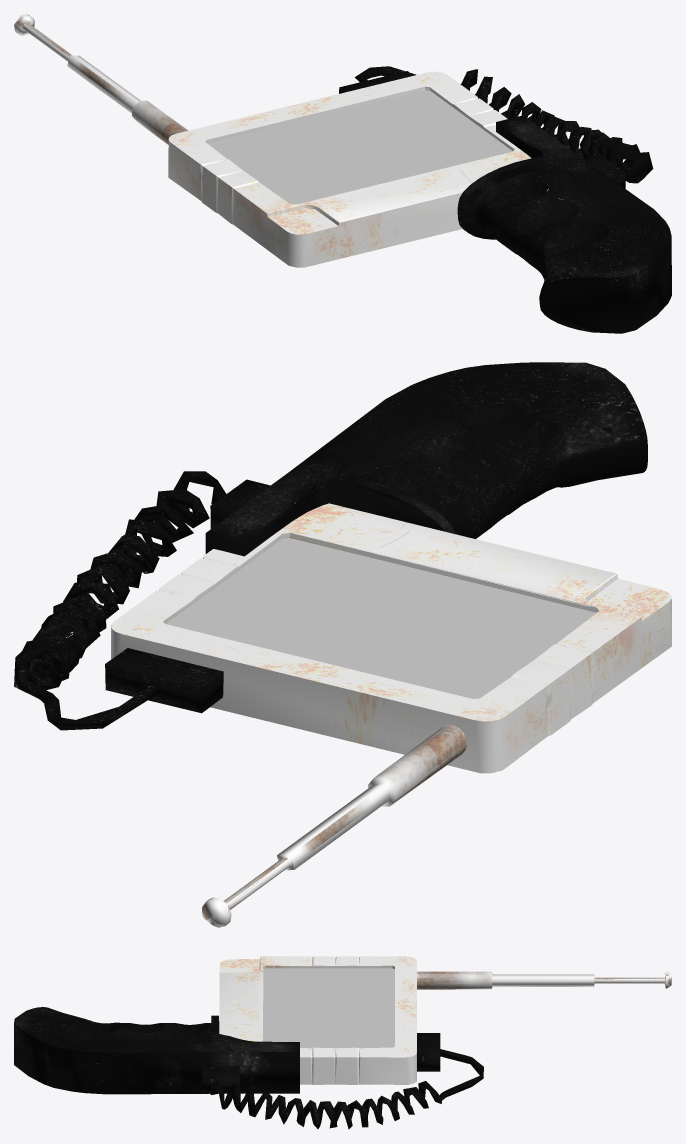
The model's file is RadarScanner_lowpoly.fbx.
3 views of the same model, one above another, from view 1: azimuth 30°, elevation 25°; view 2: azimuth 150°, elevation 25°; view 3: azimuth 270°, elevation 25° (orthographic). The views are drawn at different scales.
Parts seen in each view (by area): view 1: main.002, handle.003, wire.002, receiver_2.002, receiver_1.002, receiver_3.002; view 2: main.002, handle.003, wire.002, receiver_1.002, receiver_2.002, receiver_3.002; view 3: main.002, handle.003, wire.002, receiver_1.002, receiver_2.002, receiver_3.002.
Part boxes in pixels (x1,y1,x2,y2): main.002: [168, 71, 563, 267]; handle.003: [457, 115, 671, 333]; wire.002: [339, 66, 653, 188]; receiver_2.002: [67, 55, 140, 113]; receiver_1.002: [131, 100, 187, 144]; receiver_3.002: [14, 14, 71, 61]; main.002: [111, 503, 671, 773]; handle.003: [205, 362, 647, 556]; wire.002: [14, 471, 270, 730]; receiver_1.002: [368, 725, 466, 806]; receiver_2.002: [277, 783, 390, 870]; receiver_3.002: [202, 857, 290, 927]; main.002: [219, 956, 416, 1084]; handle.003: [14, 1007, 299, 1094]; wire.002: [202, 1033, 483, 1129]; receiver_1.002: [417, 971, 492, 989]; receiver_2.002: [492, 974, 594, 986]; receiver_3.002: [594, 972, 671, 988].
Bounding box in the file's own units: 0.6379 × 0.1313 × 1.32.
